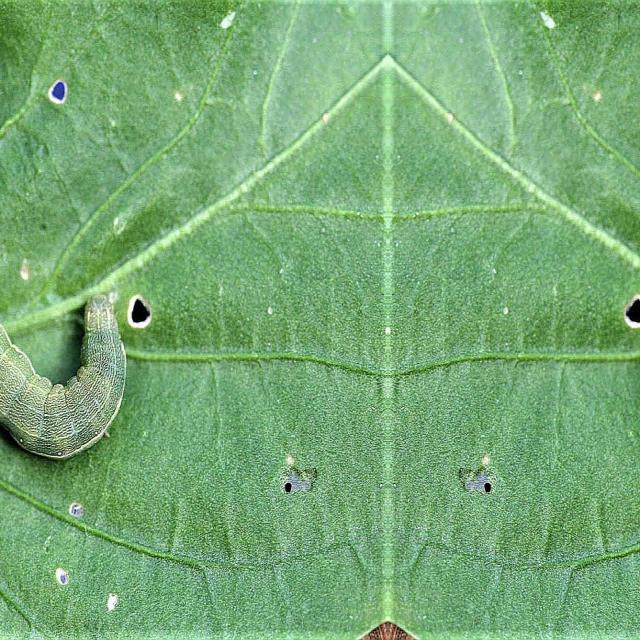Armyworm: (1, 250, 136, 527)
Armyworm_damage: (442, 447, 524, 523), (276, 437, 326, 525), (34, 52, 80, 129), (122, 296, 172, 347), (614, 273, 640, 358)
